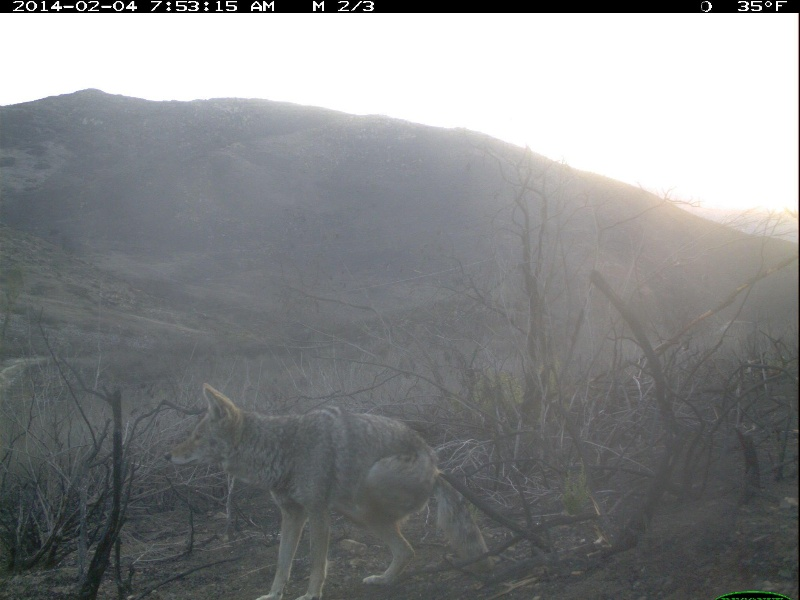coyote: (164, 382, 497, 597)
